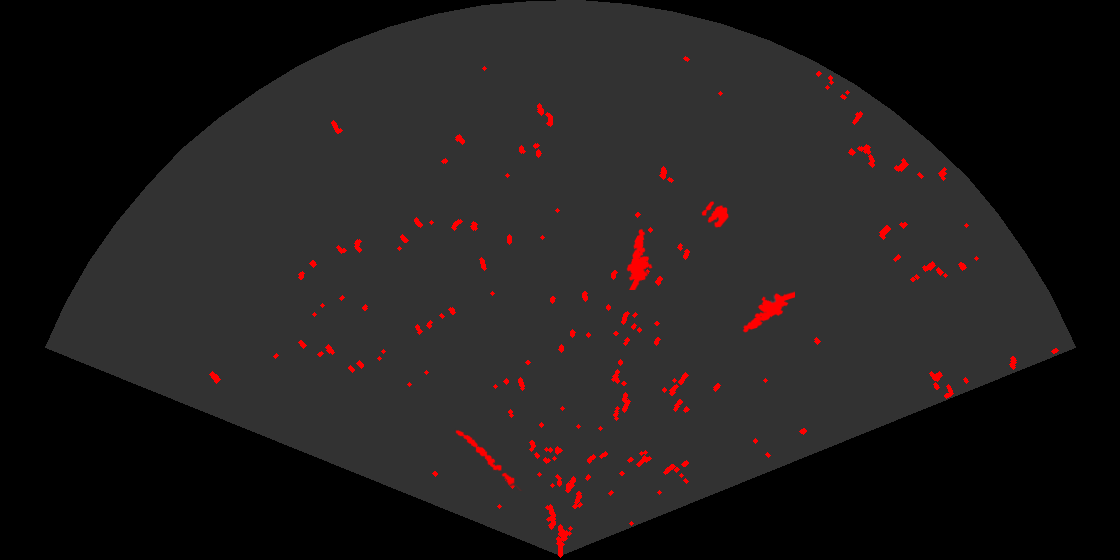ball: (700, 200, 731, 229)
chain: (454, 428, 524, 491)
frogman: (741, 290, 795, 334), (625, 227, 654, 290)
